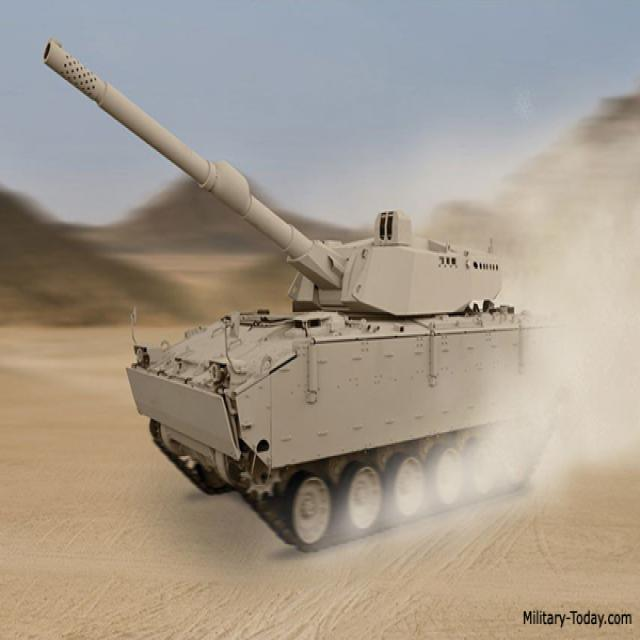Tank: (43, 33, 552, 528)
